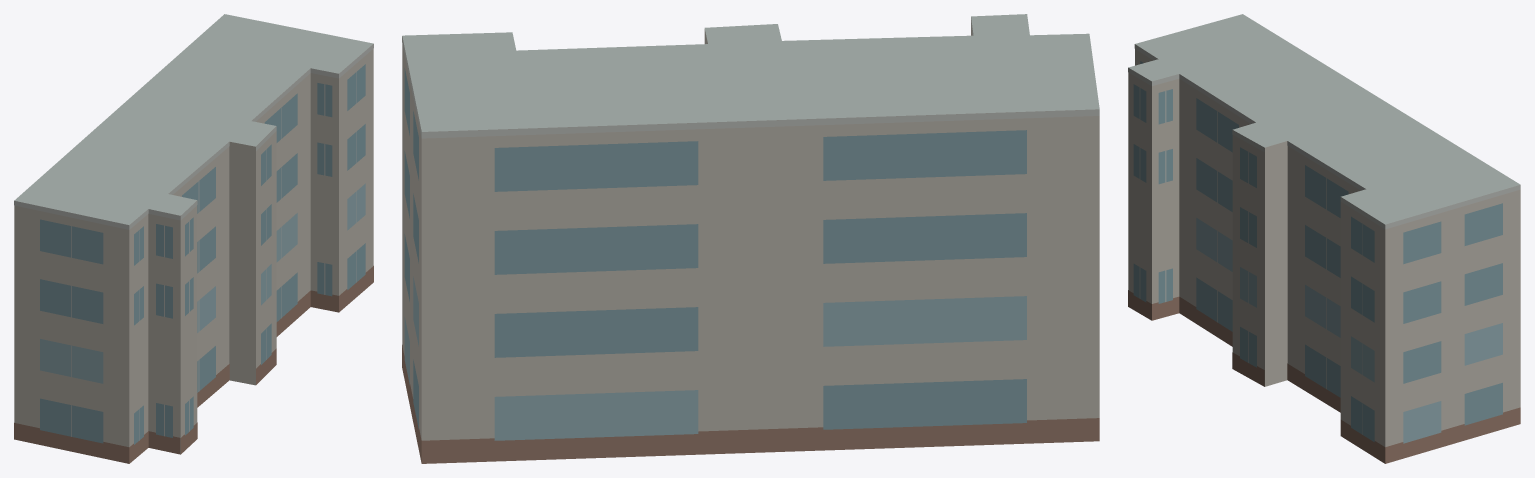
The model's file is survey-upis-32682081.glb.
3 views of the same model, side by side, from view 1: azimuth 30°, elevation 25°; view 2: azimuth 150°, elevation 25°; view 3: azimuth 270°, elevation 25° (orthographic). The views are drawn at different scales.
Parts seen in each view (by area): view 1: survey-upis-32682081.tmp; view 2: survey-upis-32682081.tmp; view 3: survey-upis-32682081.tmp.
Boxes of the visible parts, x1,y1,x2,y2 form: survey-upis-32682081.tmp: (14,14,373,463); survey-upis-32682081.tmp: (402,14,1099,463); survey-upis-32682081.tmp: (1128,14,1520,463).
Size of the model in its own units: 23.04 by 12.2 by 18.15.
